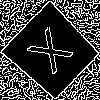X: (26, 26, 82, 83)
